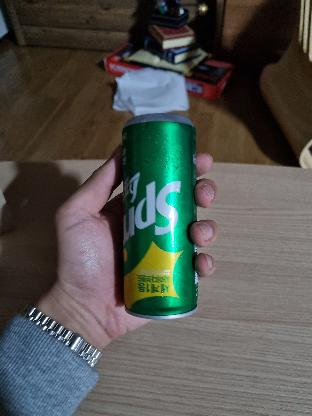Can: (128, 114, 199, 330)
